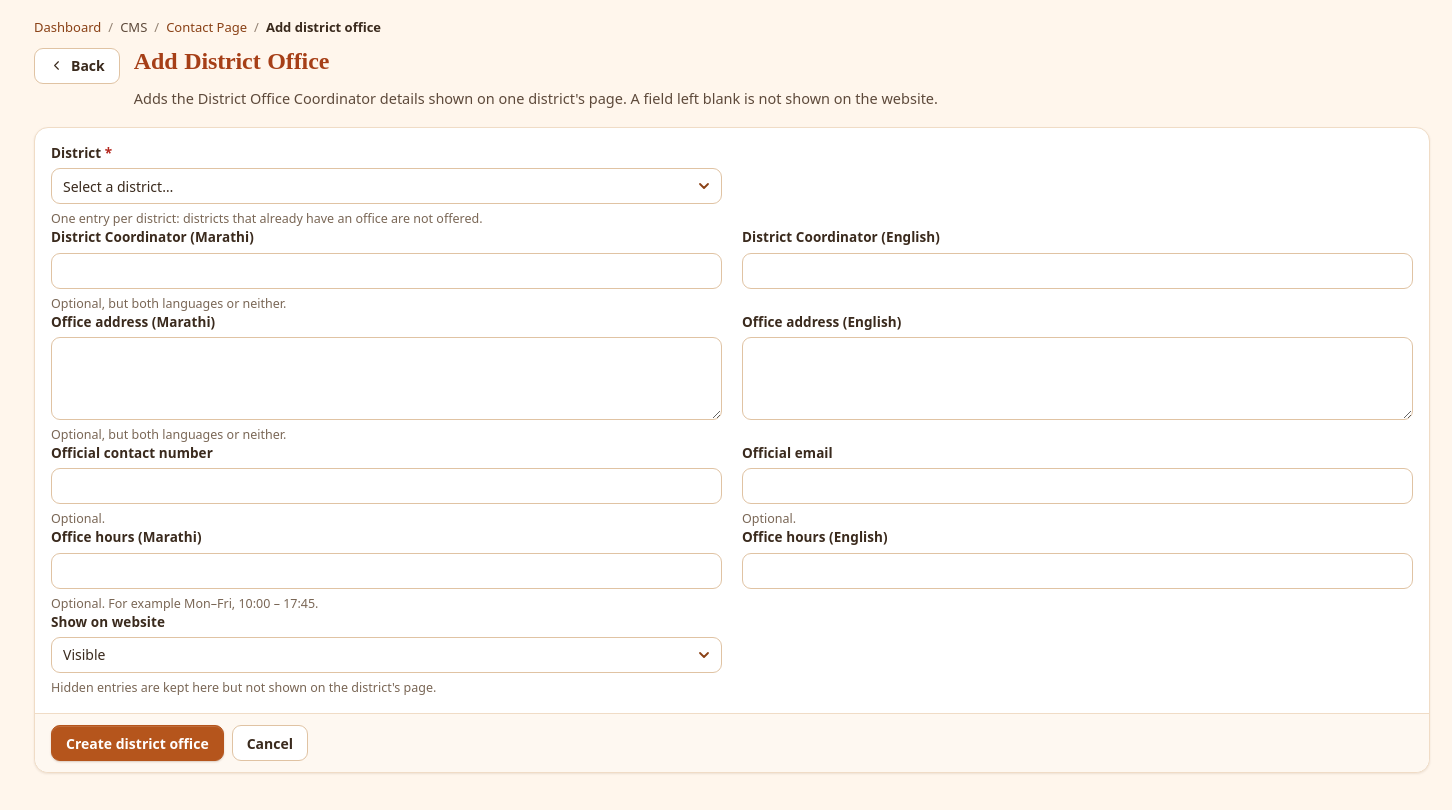
Test: district office pages › Add district office › shows the 409 for a district that already has an office on the district select
The width and height of the screenshot is (1452, 810).
Select "Satara (Maharashtra)" in the dropdown labelled "District *" at (386, 186), box x1=51 y1=168 x2=722 y2=204
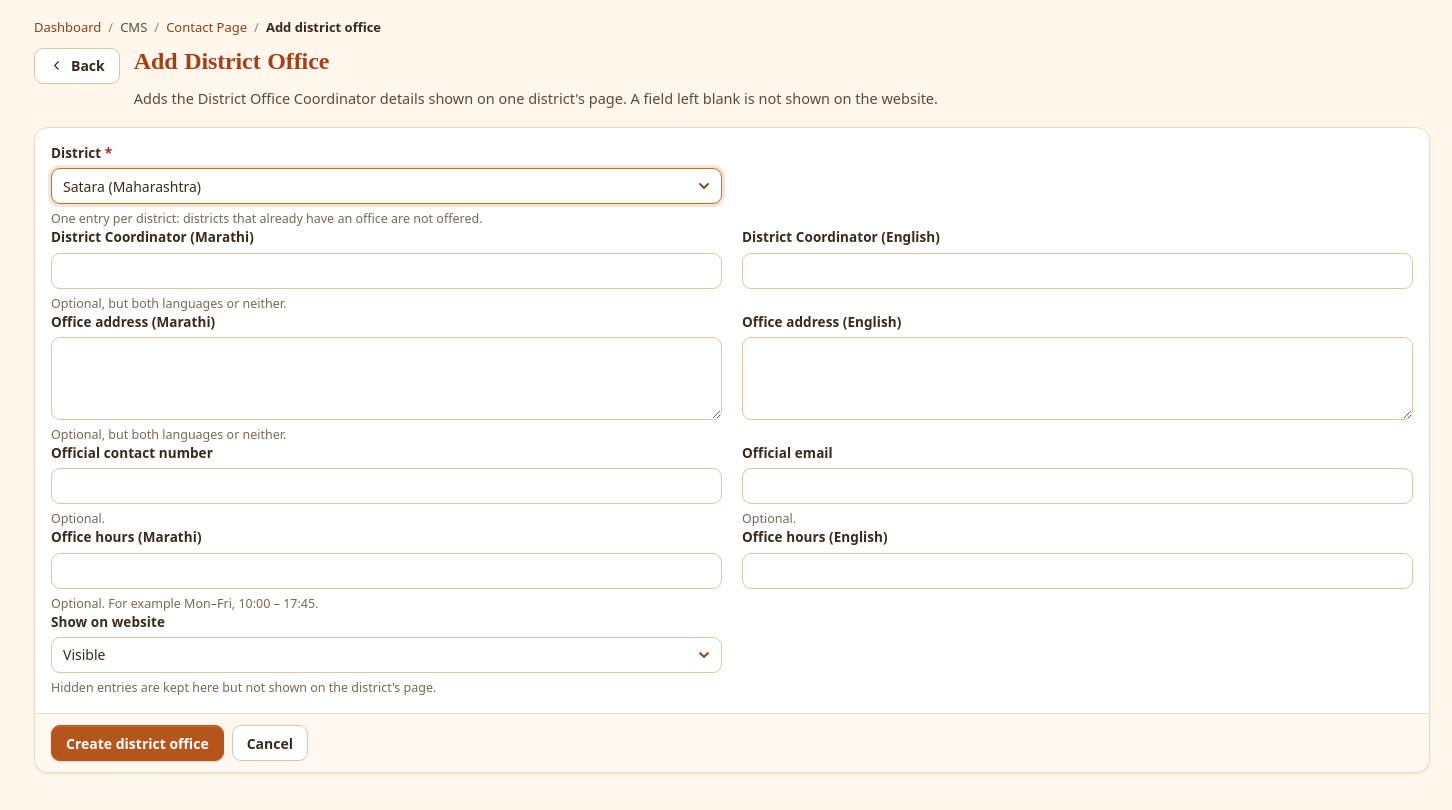
Click the button "Create district office".
click(137, 743)  # box x1=51 y1=725 x2=224 y2=761
(page scrolled)
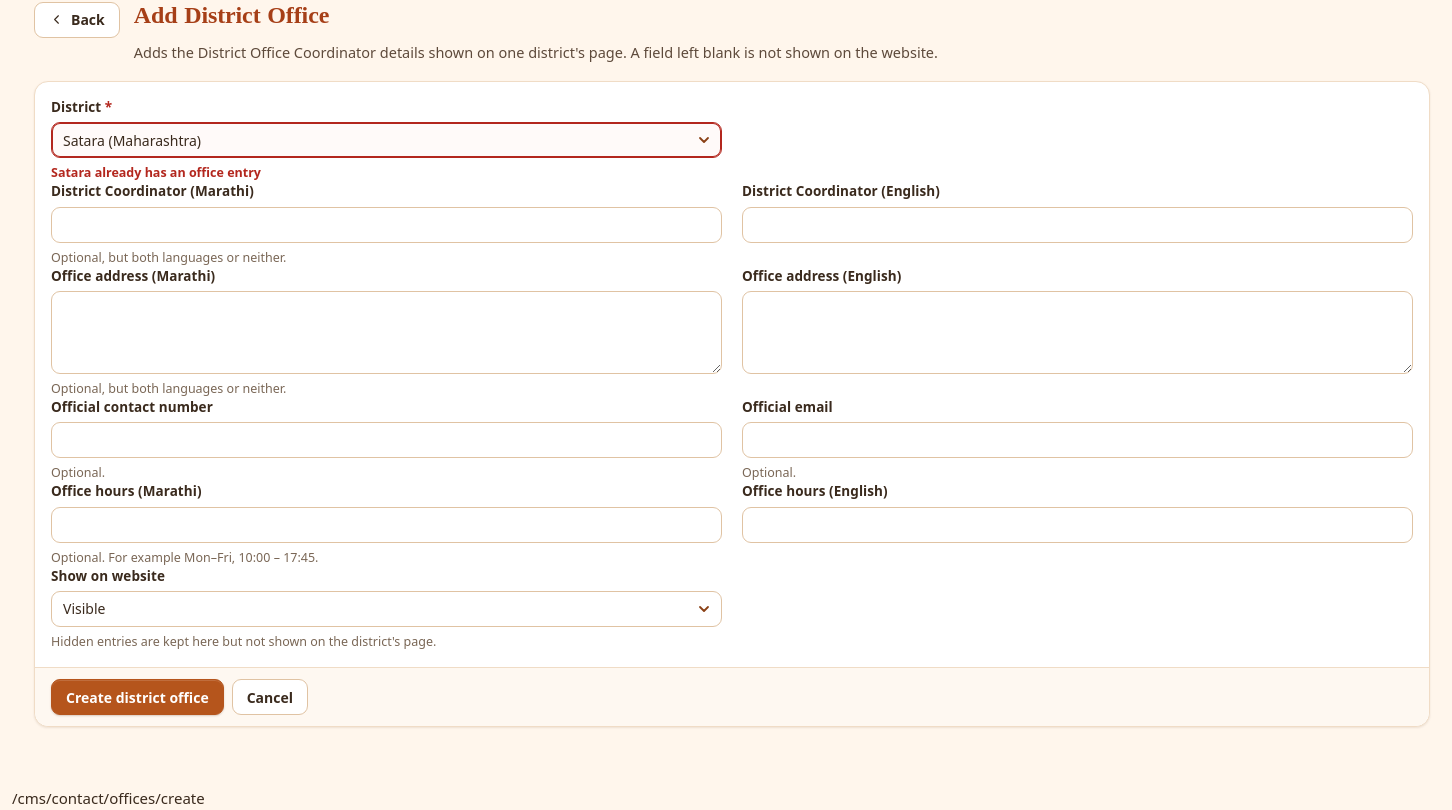
Expected: the text with test id "location" reads "/cms/contact/offices/create", x1=12 y1=788 x2=205 y2=808
Expected: the text "Satara already has an office entry" is shown, x1=51 y1=164 x2=261 y2=181
